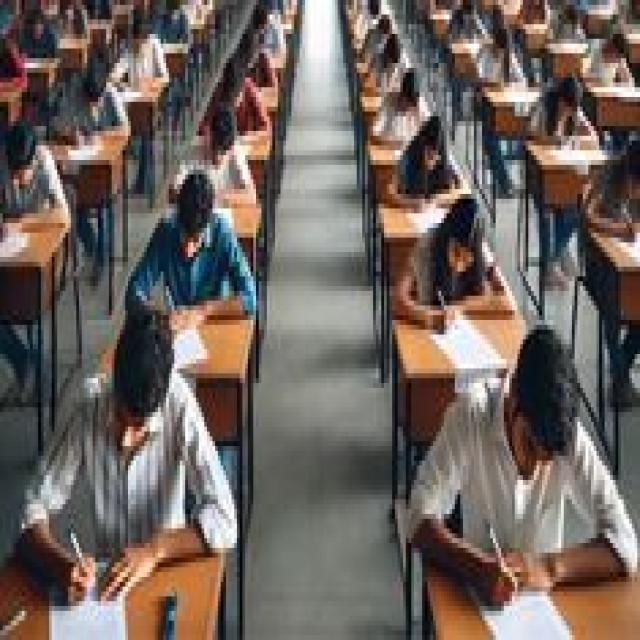9_cabeza_baja: (509, 326, 577, 482)
